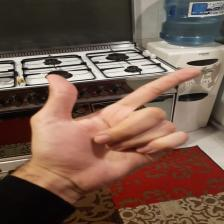five: (30, 66, 202, 168)
